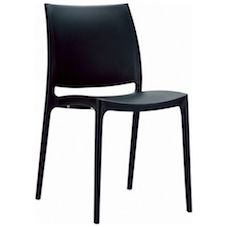chair: (22, 1, 203, 225)
